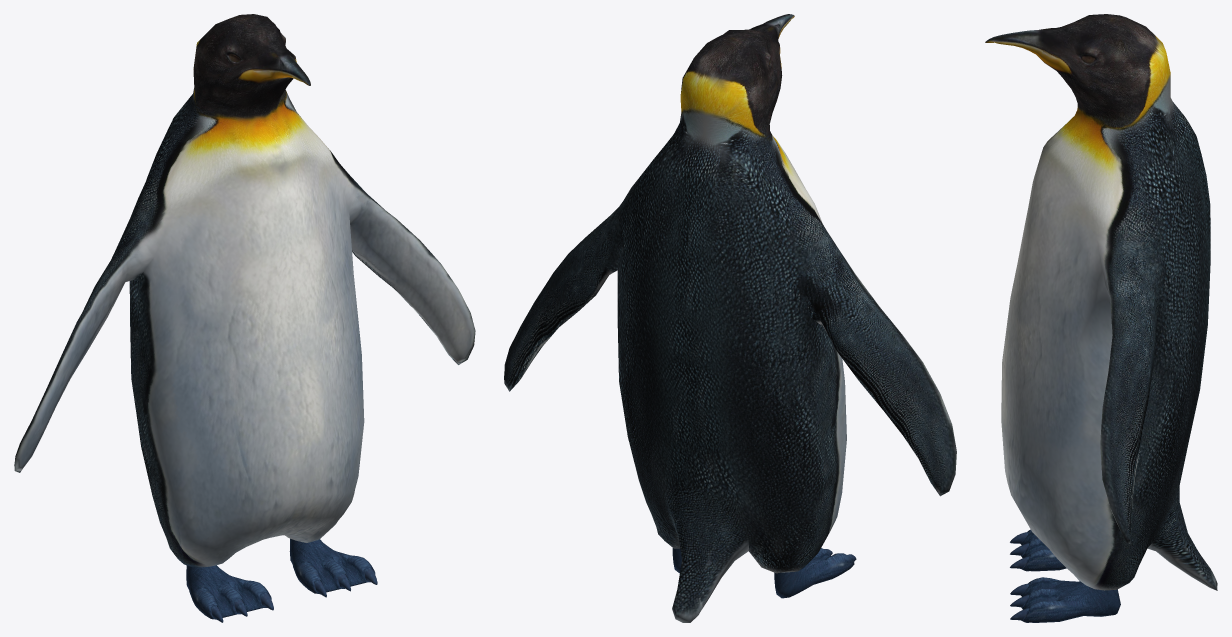
File: penguin.fbx
The picture shows the model from 3 angles, left to right: view 1: azimuth 30°, elevation 25°; view 2: azimuth 150°, elevation 25°; view 3: azimuth 270°, elevation 25°; orthographic projection. The views are drawn at different scales.
Visible parts, largest first — view 1: penguin; view 2: penguin; view 3: penguin.
Boxes of the visible parts, x1,y1,x2,y2 form: penguin: (14, 14, 475, 622); penguin: (504, 14, 956, 622); penguin: (985, 14, 1217, 622).
Size of the model in its own units: 52.11 by 60.58 by 22.36.
1 material, 1 textured.
